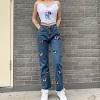pants: (35, 24, 68, 90)
